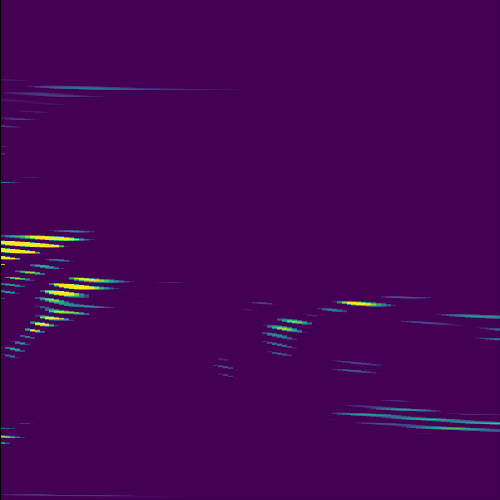semblance: (1, 230, 89, 265), (37, 274, 126, 306)
